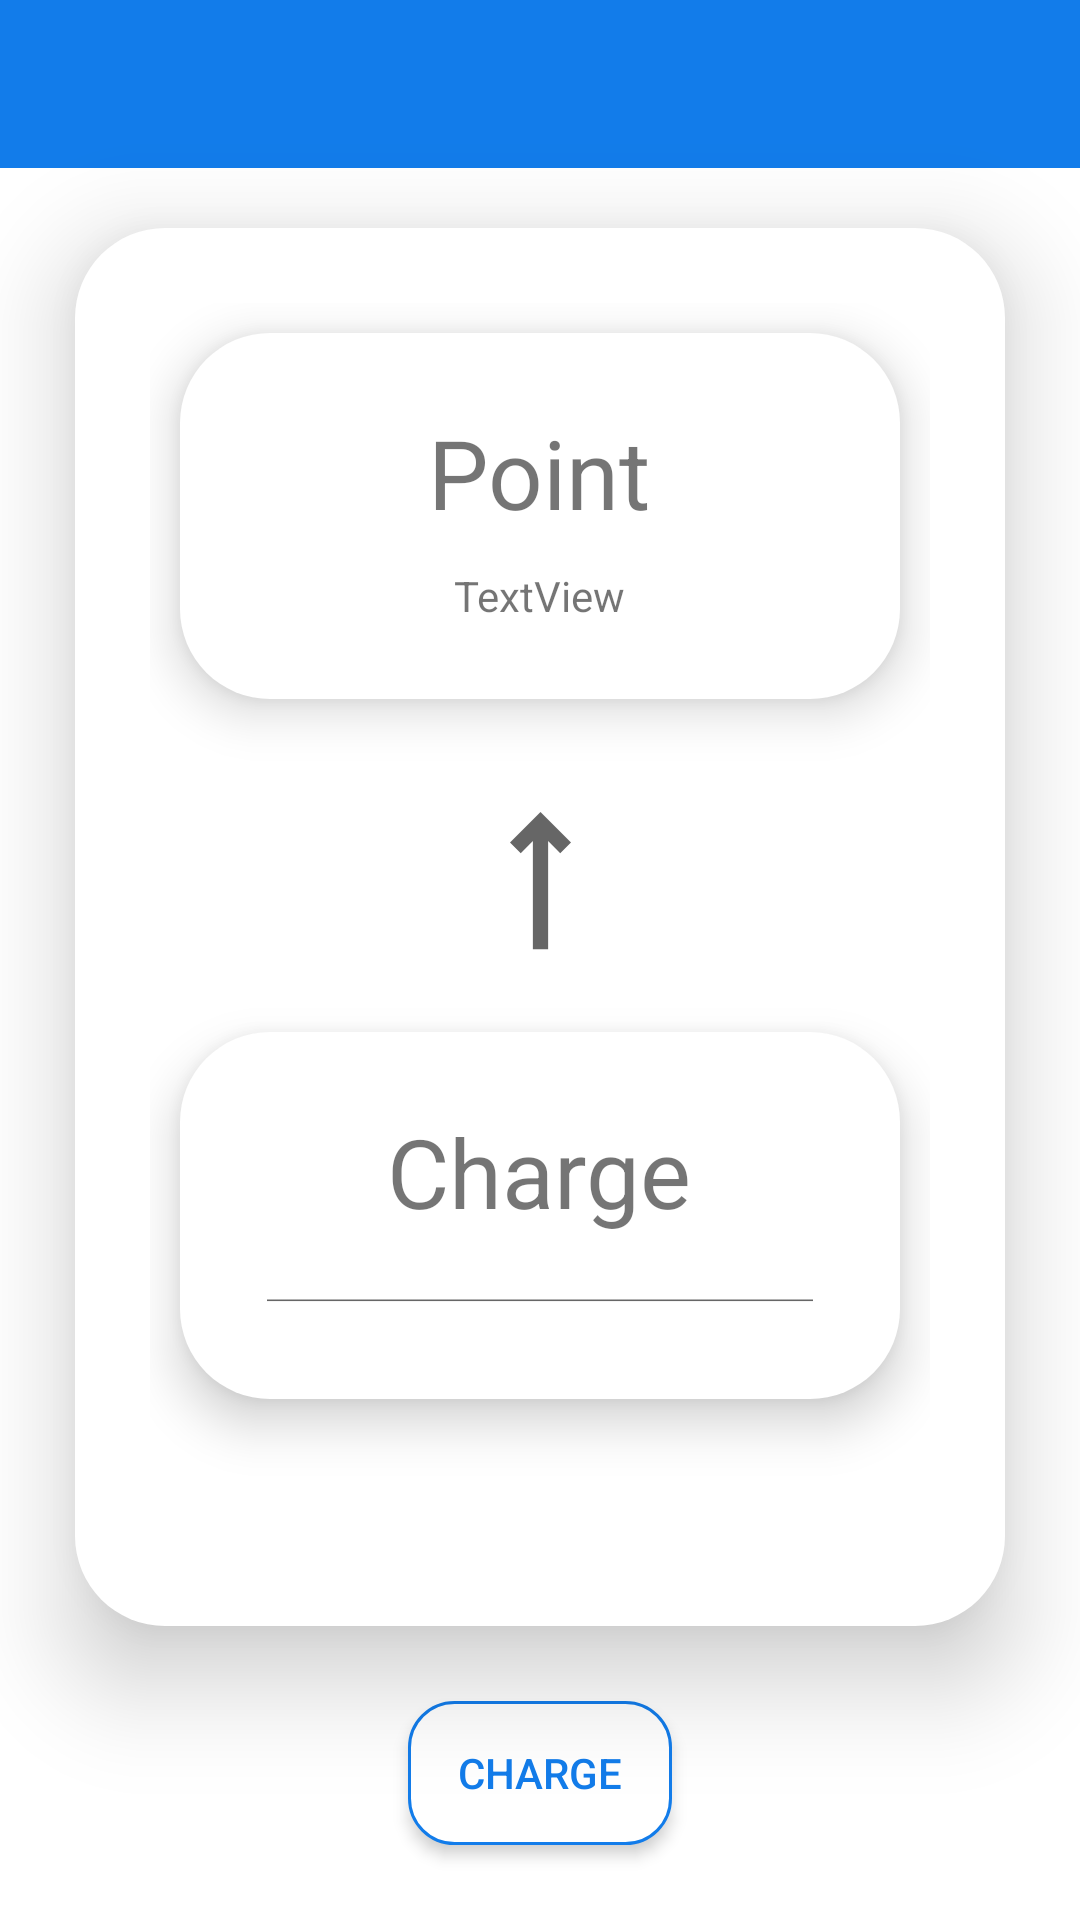

Named icons in this screenshot (1080px x 1920px) and their centers, [x,y]:
straight: [540,881]
